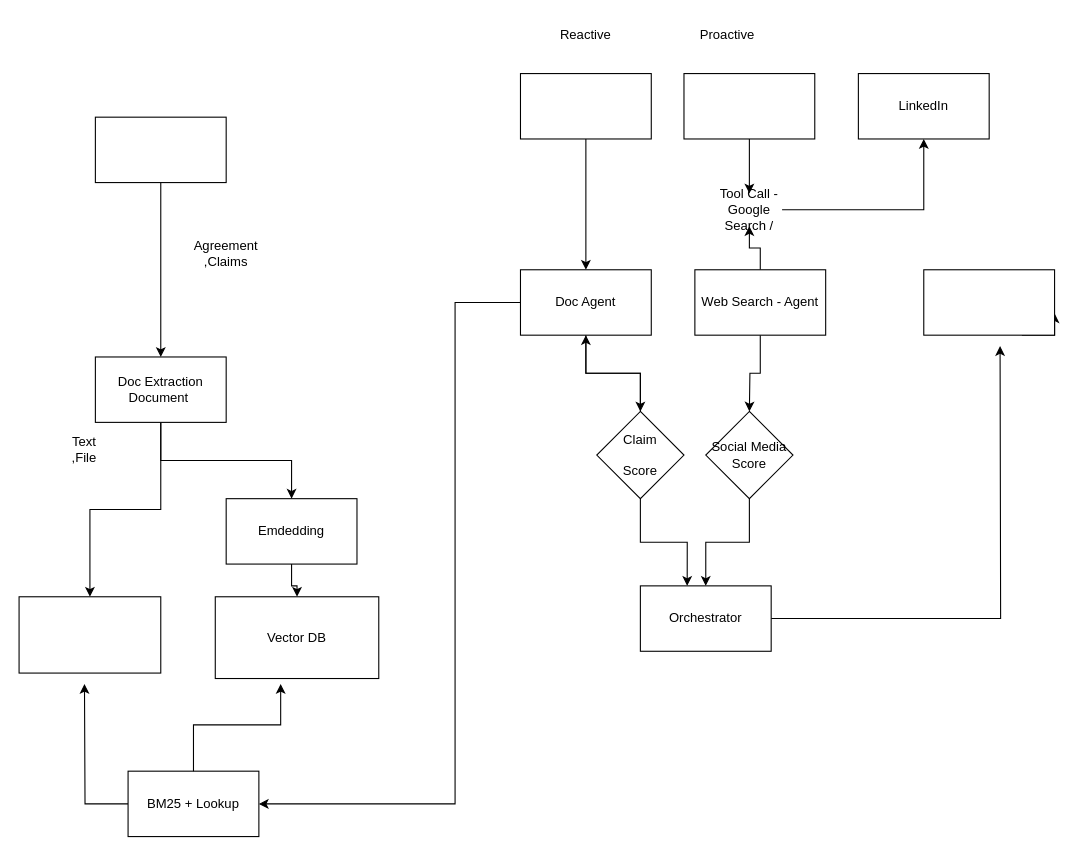
This 1082x856 diagram has some shape labels left out. Each missing label, with the centre of its shape:
"HITL - On site Agent" belongs at (989,302).
"Input Docs" belongs at (160,149).
"Rules API / Doc" belongs at (585,105).
"SQLITE" belongs at (89,634).
"UserInfo Lookup" belongs at (749,105).
